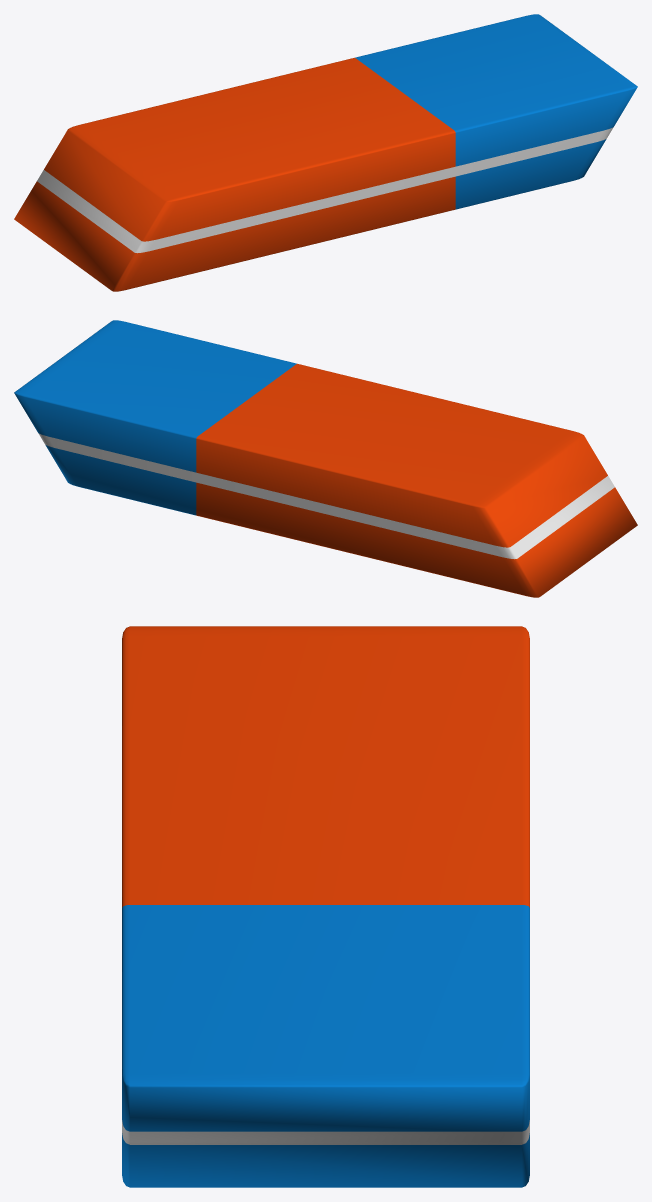
File: eraser.glb
3 renders of one model, top to bottom at view 1: azimuth 30°, elevation 25°; view 2: azimuth 150°, elevation 25°; view 3: azimuth 270°, elevation 25°, orthographic. The views are drawn at different scales.
Parts seen in each view (by area): view 1: Rubber_002-material, Rubber-material, Rubber_001-material; view 2: Rubber_002-material, Rubber-material, Rubber_001-material; view 3: Rubber_002-material, Rubber-material, Rubber_001-material.
Boxes of the visible parts, bbox=[...] form: Rubber_002-material: bbox=[14, 57, 455, 291]; Rubber-material: bbox=[355, 14, 637, 209]; Rubber_001-material: bbox=[37, 127, 613, 253]; Rubber_002-material: bbox=[196, 363, 637, 597]; Rubber-material: bbox=[14, 320, 296, 515]; Rubber_001-material: bbox=[38, 433, 614, 559]; Rubber_002-material: bbox=[122, 626, 529, 907]; Rubber-material: bbox=[122, 905, 529, 1187]; Rubber_001-material: bbox=[122, 1120, 529, 1144].
Size of the model in its own units: 2.69 by 0.3862 by 0.9021.
